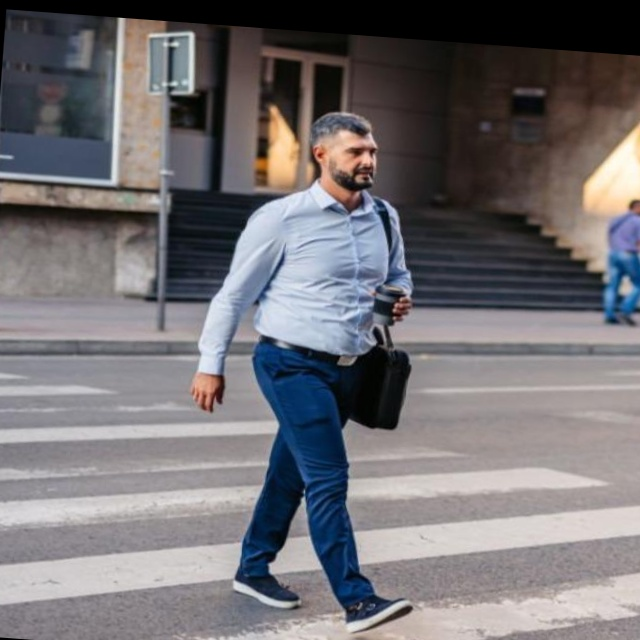Sin_Casco_Mascarrilla: (304, 109, 382, 195)
Sin_Chaleco: (248, 188, 405, 363)
